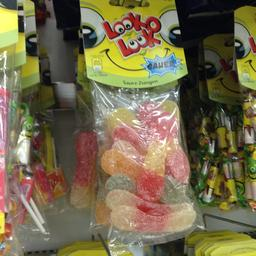candy: (82, 2, 196, 236)
